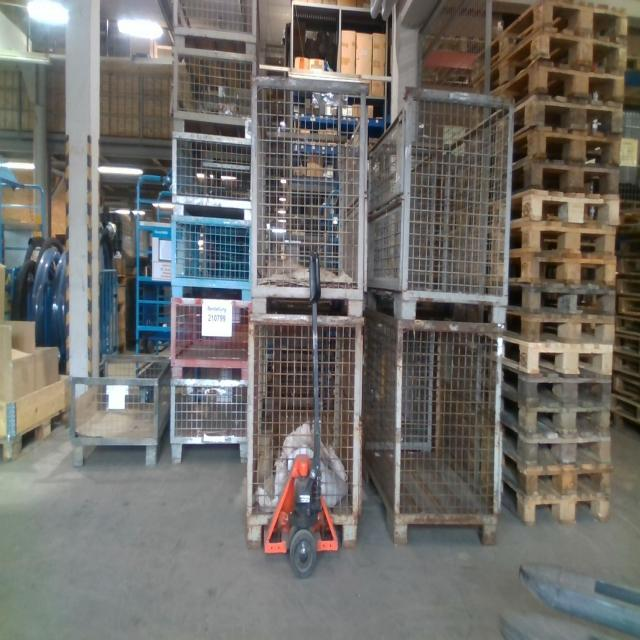pallet: (472, 7, 625, 81), (475, 37, 627, 85), (507, 62, 625, 109), (0, 401, 73, 466), (514, 131, 621, 168), (515, 101, 623, 136), (513, 165, 621, 199), (513, 199, 622, 231), (503, 381, 612, 413), (510, 260, 618, 292), (508, 293, 616, 325), (503, 441, 612, 472), (511, 233, 620, 263), (505, 350, 614, 380), (503, 410, 611, 440), (504, 498, 609, 524), (504, 472, 611, 497), (504, 325, 616, 347), (614, 416, 639, 439), (615, 394, 639, 411)
pallet_truck: (262, 251, 346, 577)
stillage: (369, 78, 511, 325), (363, 304, 503, 552), (247, 64, 371, 320), (243, 307, 370, 553), (67, 352, 173, 475), (168, 46, 256, 139), (169, 214, 254, 302), (169, 129, 259, 211), (165, 379, 252, 462), (166, 302, 254, 378), (171, 3, 260, 55)
